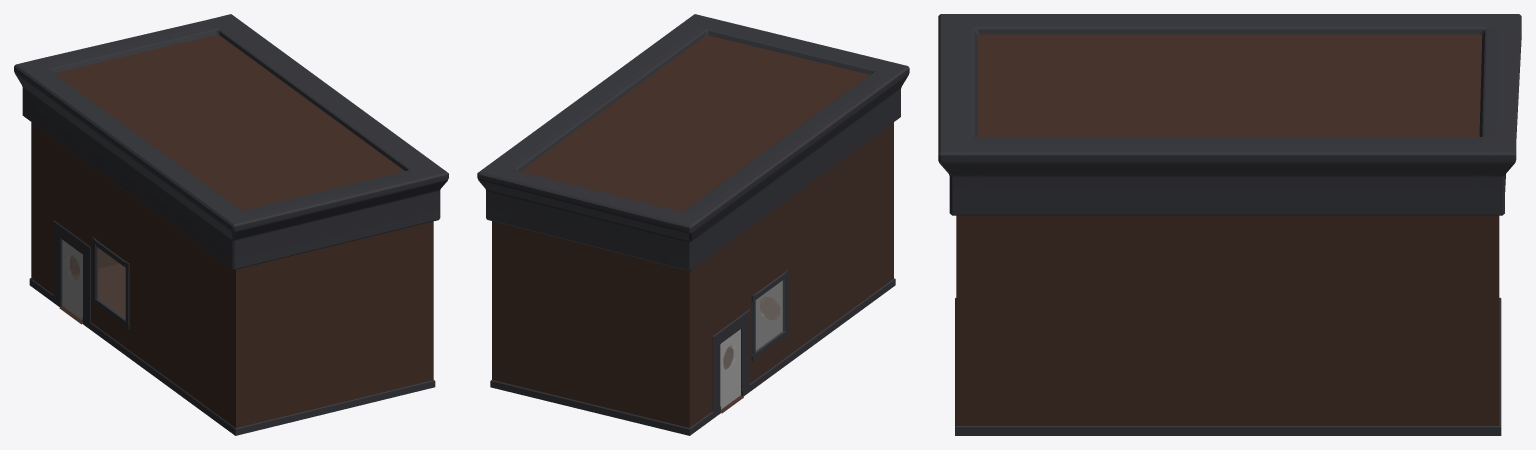
The model's file is postm offy.fbx.
3 views of the same model, side by side, from view 1: azimuth 30°, elevation 25°; view 2: azimuth 150°, elevation 25°; view 3: azimuth 270°, elevation 25° (orthographic). The views are drawn at different scales.
Visible parts, largest first — view 1: post_office_building, post_top_trim, post_bottom_trim, post_front_window, door1, post_from_window_frame; view 2: post_office_building, post_top_trim, post_bottom_trim, post_front_window, door1, post_backroom_door, post_from_window_frame; view 3: post_office_building, post_top_trim, post_bottom_trim.
Part boxes in pixels (bbox=[...]): post_office_building: bbox=[31, 34, 433, 427]; post_top_trim: bbox=[14, 14, 448, 269]; post_bottom_trim: bbox=[29, 220, 435, 435]; post_front_window: bbox=[97, 248, 125, 318]; door1: bbox=[62, 240, 82, 320]; post_from_window_frame: bbox=[92, 237, 129, 329]; post_office_building: bbox=[492, 35, 893, 427]; post_top_trim: bbox=[477, 14, 909, 271]; post_bottom_trim: bbox=[490, 278, 895, 435]; post_front_window: bbox=[756, 280, 783, 350]; door1: bbox=[720, 329, 740, 409]; post_backroom_door: bbox=[755, 291, 782, 350]; post_from_window_frame: bbox=[751, 269, 789, 361]; post_office_building: bbox=[956, 34, 1499, 425]; post_top_trim: bbox=[938, 14, 1521, 215]; post_bottom_trim: bbox=[955, 297, 1501, 435].
Size of the model in its own units: 9.39 by 9.59 by 16.52.
